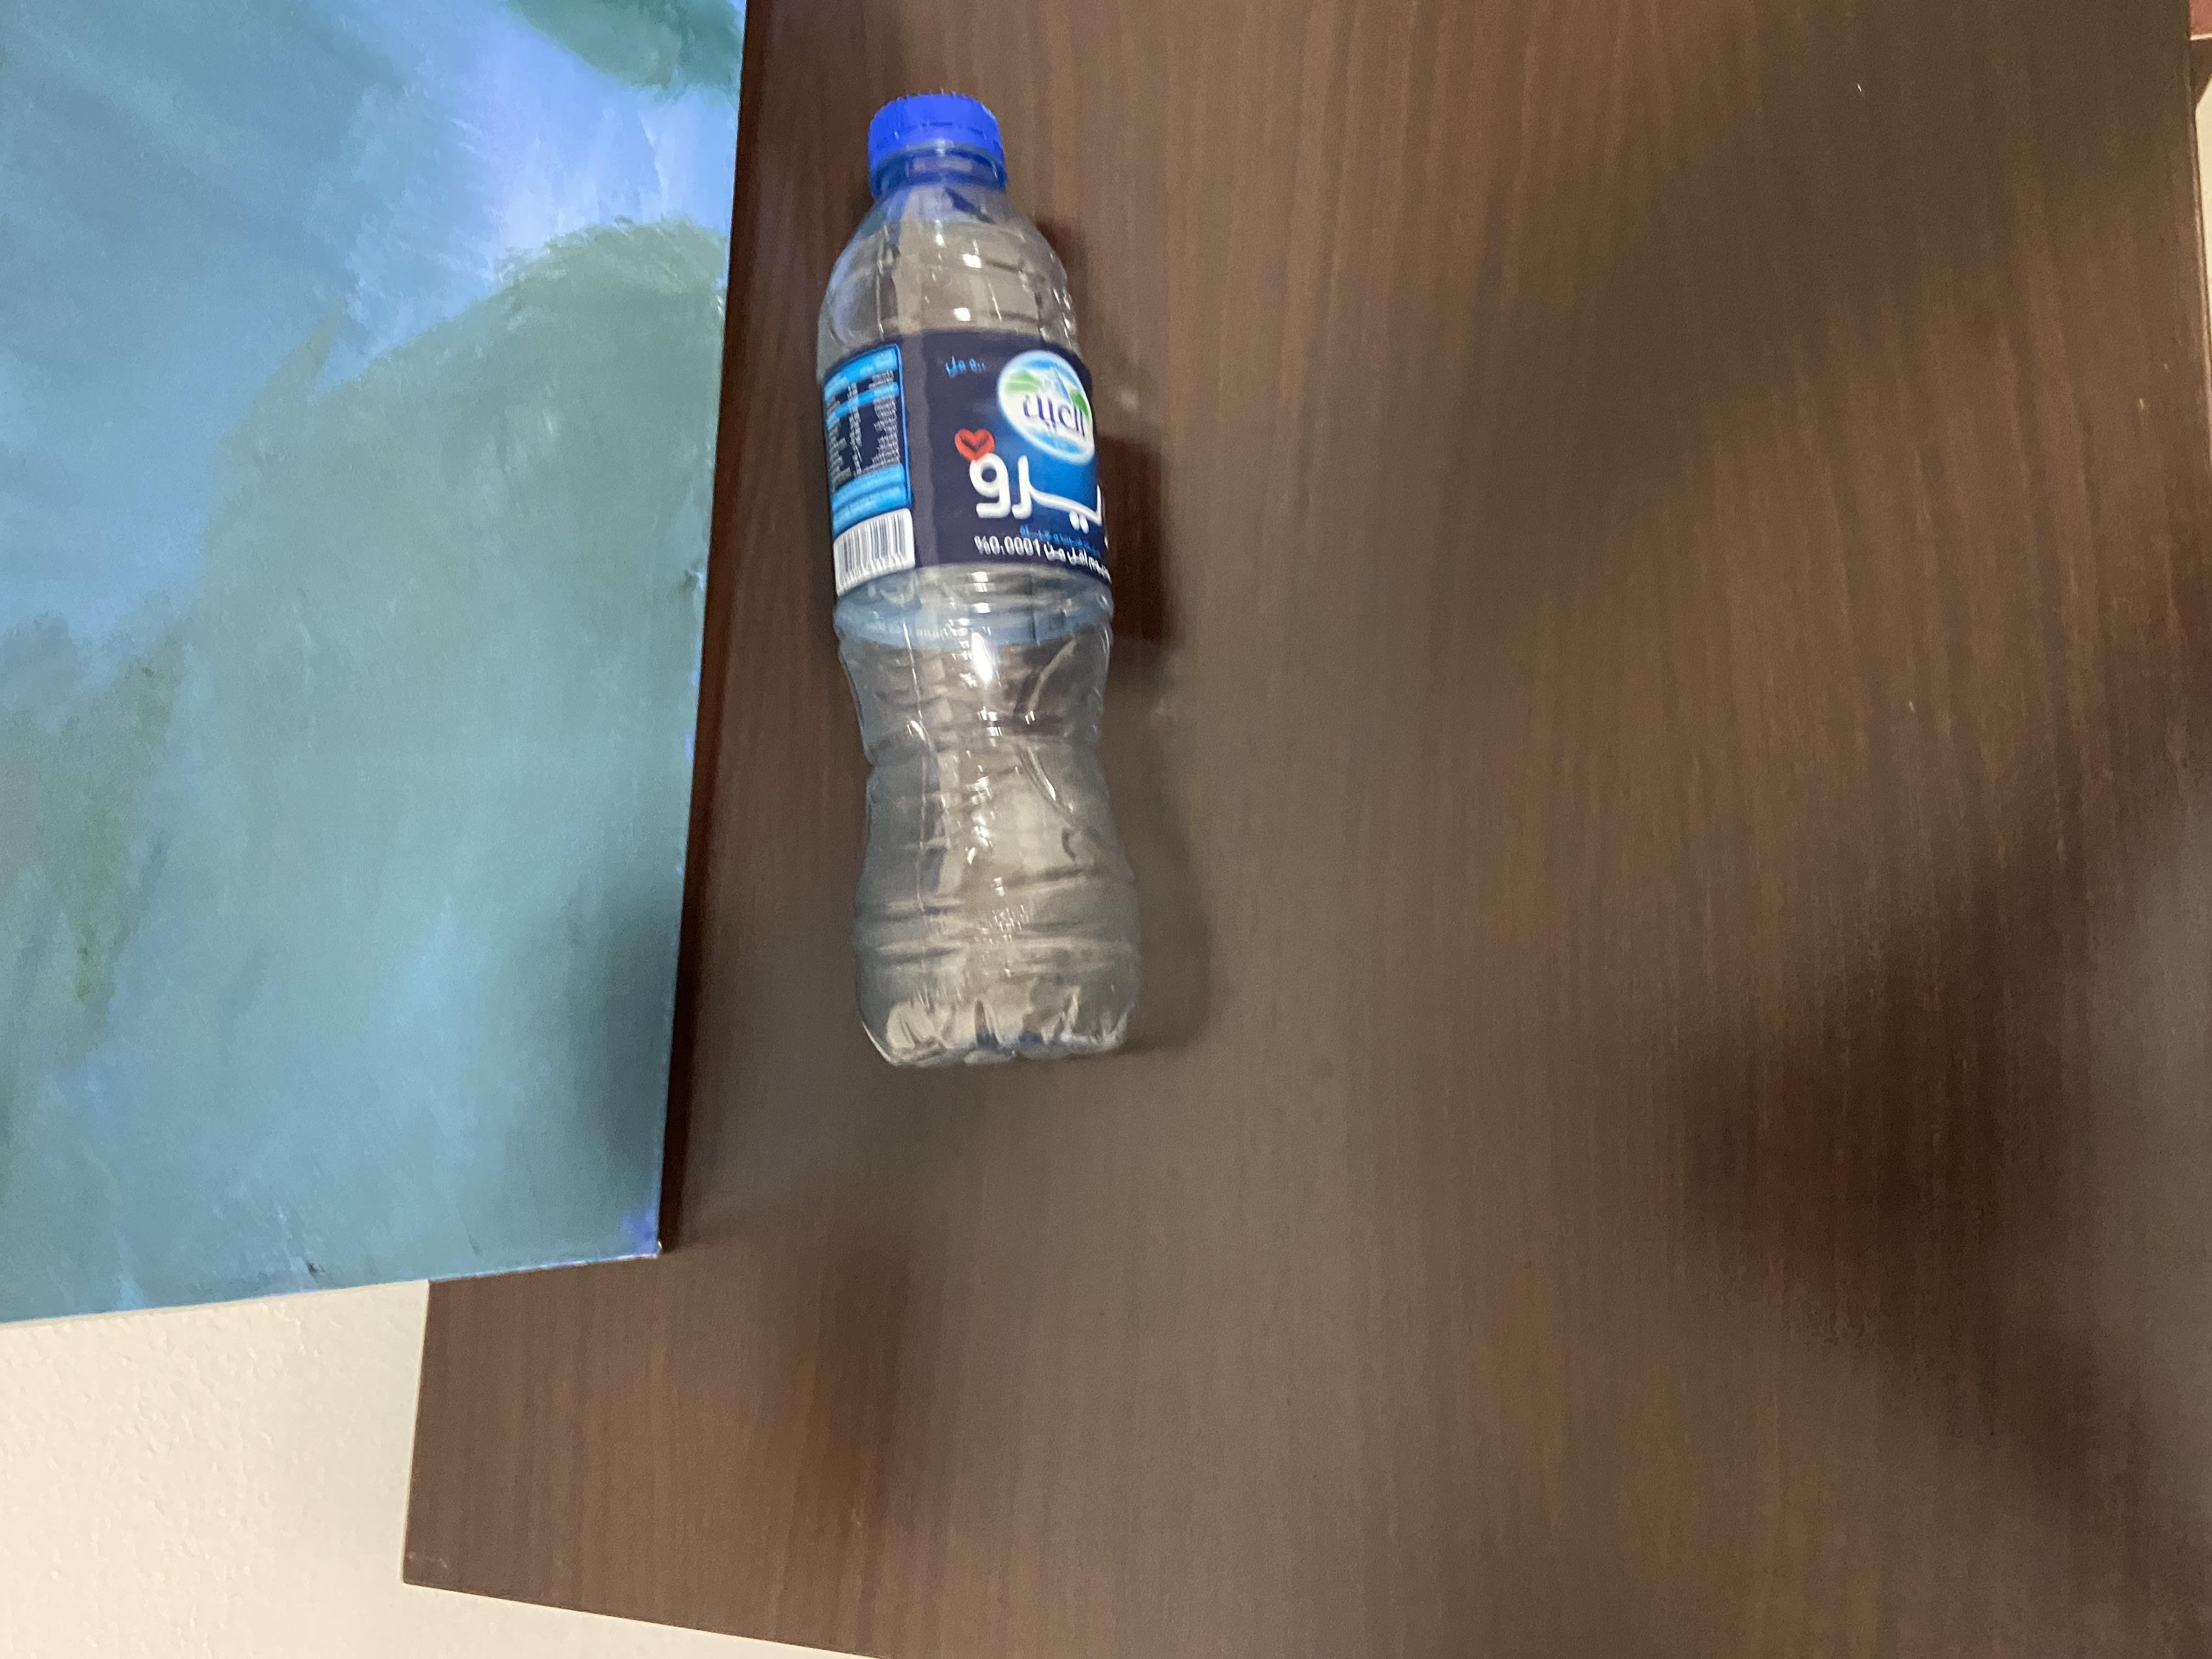bottle: (758, 601, 2153, 908)
